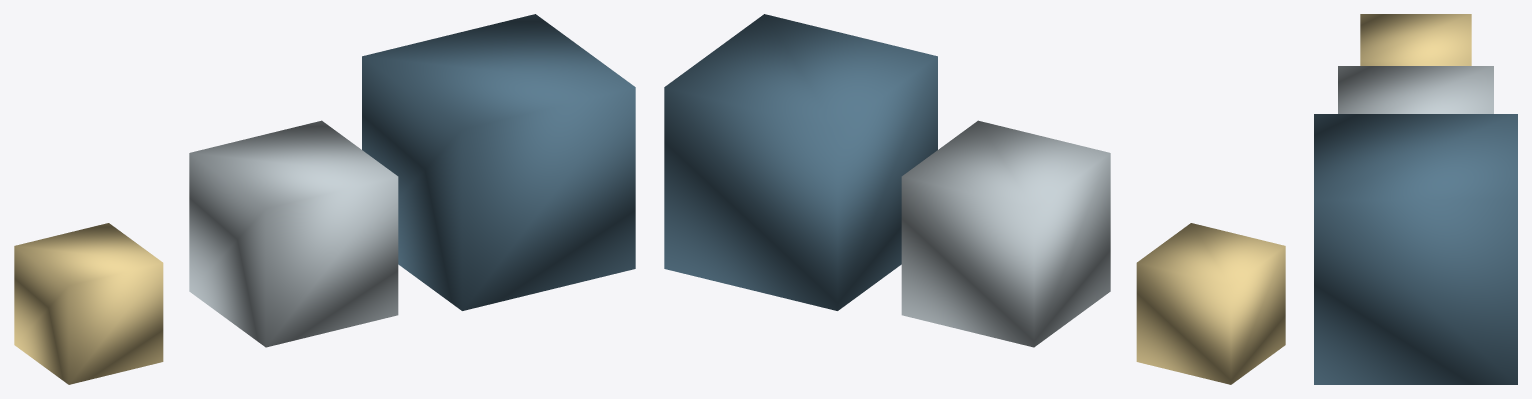
The model's file is weight-block-set.glb.
3 views of the same model, side by side, from view 1: azimuth 30°, elevation 25°; view 2: azimuth 150°, elevation 25°; view 3: azimuth 270°, elevation 25° (orthographic).
Visible parts, largest first — view 1: weight_2, weight_1, weight_0; view 2: weight_2, weight_1, weight_0; view 3: weight_2, weight_1, weight_0.
Part boxes in pixels (x1=…): weight_2: x1=362, y1=14, x2=635, y2=310; weight_1: x1=189, y1=120, x2=398, y2=347; weight_0: x1=14, y1=223, x2=163, y2=384; weight_2: x1=664, y1=14, x2=937, y2=310; weight_1: x1=901, y1=120, x2=1110, y2=347; weight_0: x1=1136, y1=223, x2=1285, y2=384; weight_2: x1=1314, y1=114, x2=1517, y2=384; weight_1: x1=1338, y1=66, x2=1493, y2=113; weight_0: x1=1360, y1=14, x2=1471, y2=65.
Size of the model in its own units: 1.73 by 0.55 by 0.55.
